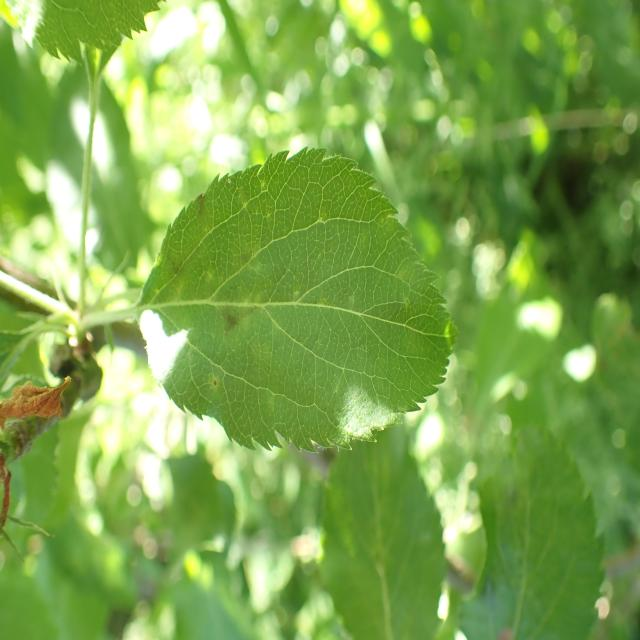scab: (145, 184, 435, 432)
